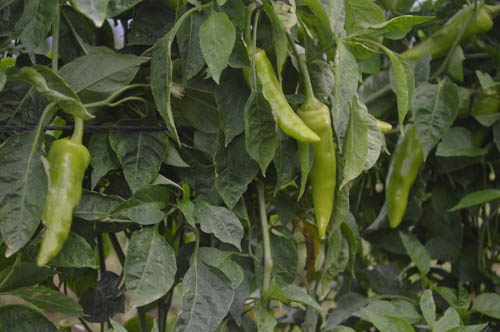ChiliPepper: (242, 51, 319, 153), (37, 139, 91, 276), (402, 6, 490, 64), (297, 106, 334, 243), (385, 122, 424, 231)
